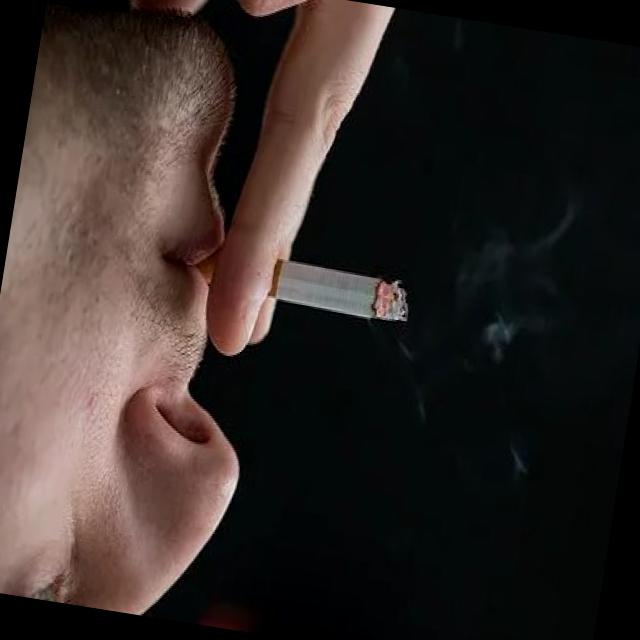smoke: (190, 236, 422, 327)
